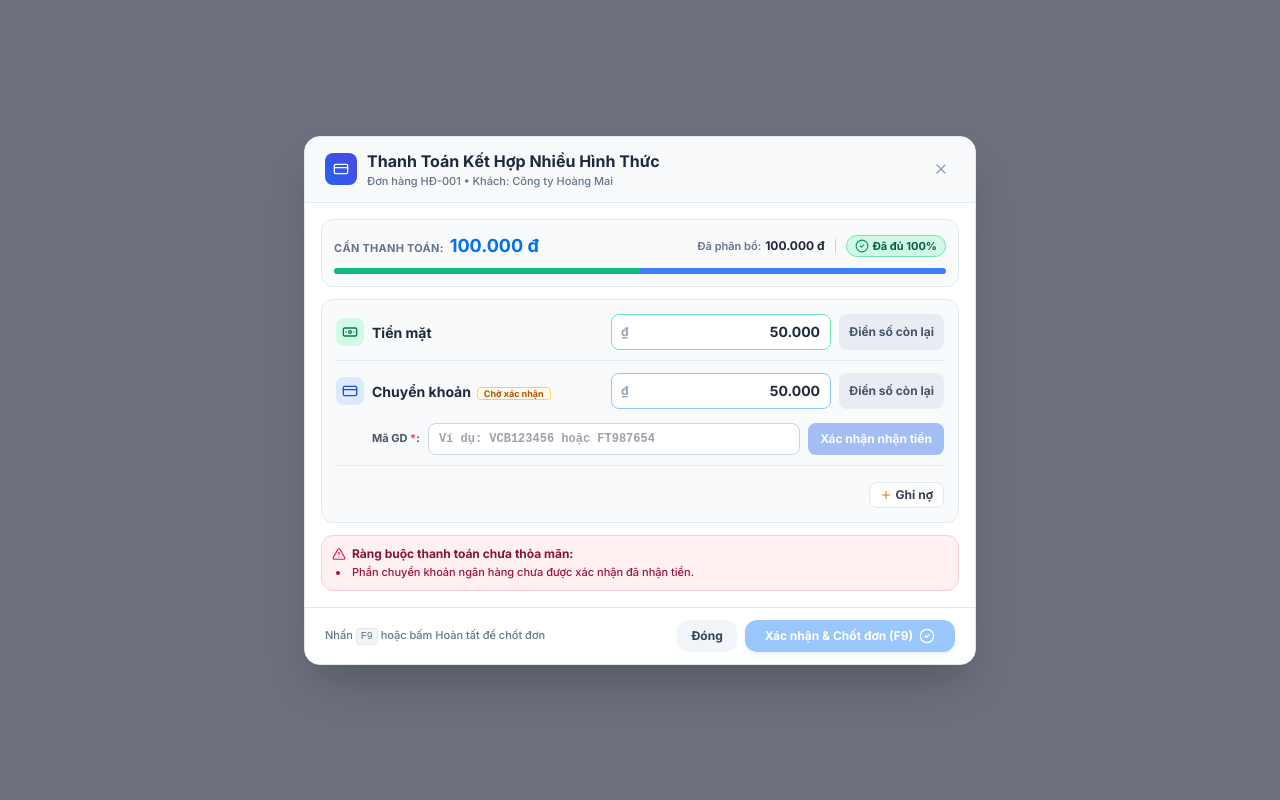
Scenario: NCL-03-CN-011: Thanh toán kết hợp nhiều hình thức trên một đơn › CombinedPaymentModal - NCL-03-CN-011-TC-02: Quy tắc QTN-07 (Khớp 100%) & QTN-03 (Đủ tiền) › hiển thị cảnh báo và khóa nút xác nhận khi tổng tiền phân bổ chưa đủ hoặc thừa so với finalAmount
Replace the text in the number field in the row of "Tiền mặt" with "30000" at {"x": 721, "y": 331}, box [611,313,831,349]
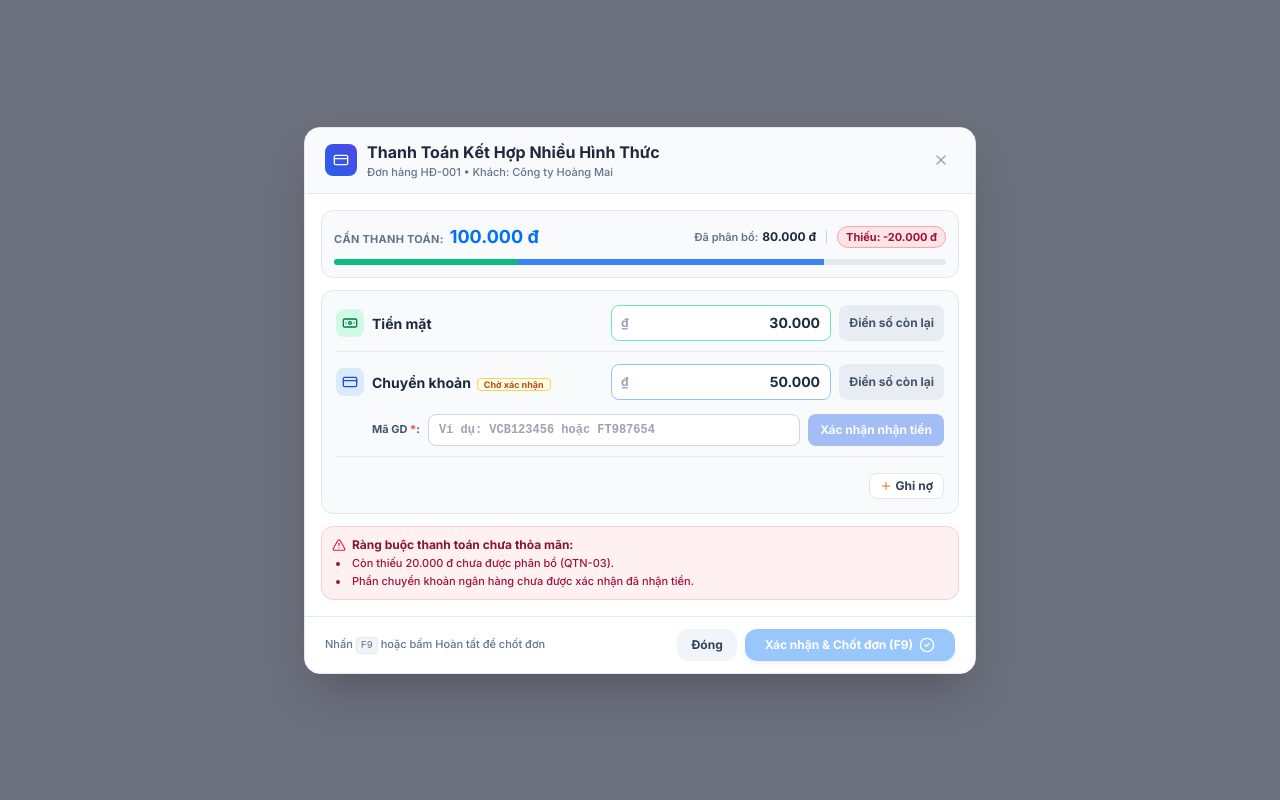
Check: the button "Xác nhận & Chốt đơn (F9)" is disabled, box [745,628,955,660]
Check: the list item "Còn thiếu 20.000 đ chưa được phân bổ (QTN-03)." is shown, box [352,555,614,569]
Replace the text in the number field in the row of "Tiền mặt" with "70000" at {"x": 721, "y": 322}, box [611,304,831,340]
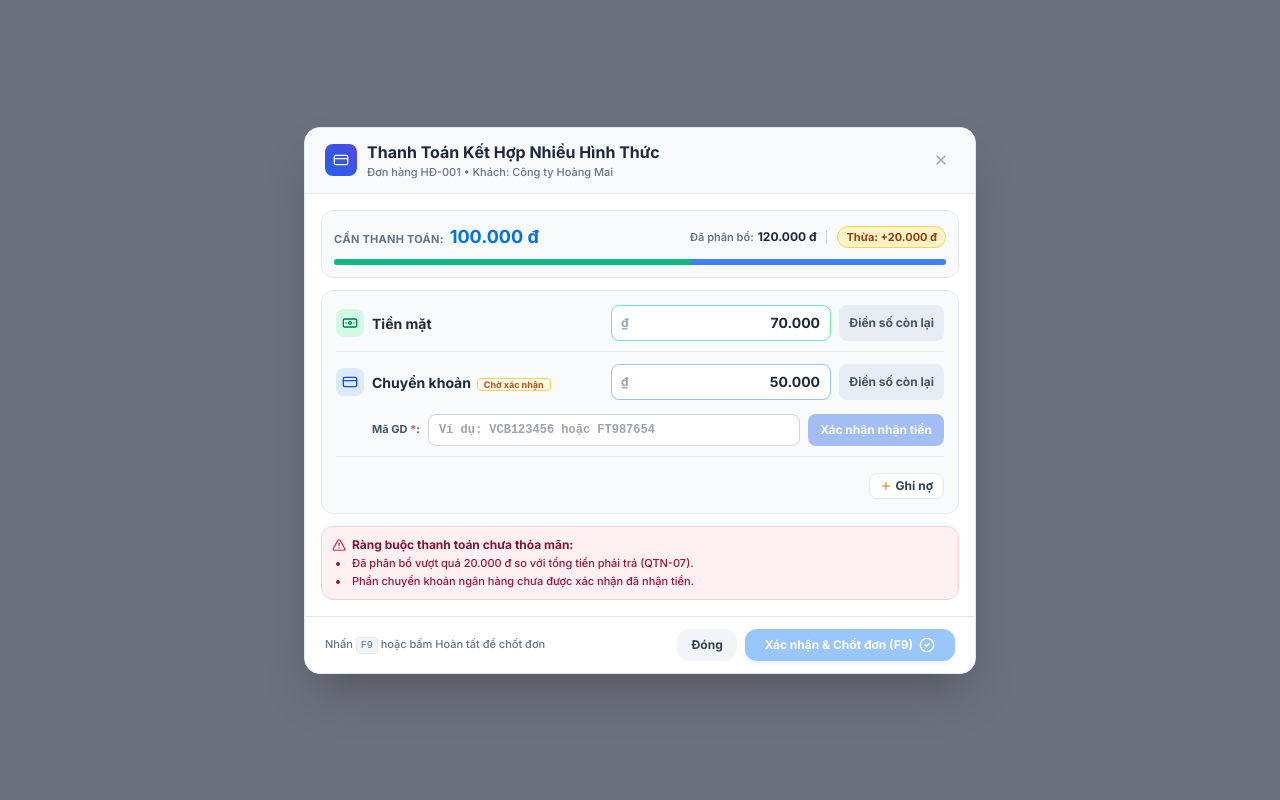
Check: the button "Xác nhận & Chốt đơn (F9)" is disabled, box [745,628,955,660]
Check: the list item "Đã phân bổ vượt quá 20.000 đ so với tổng tiền phải trả (QTN-07)" is shown, box [352,555,694,569]
